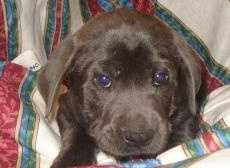dog: (23, 0, 200, 159)
